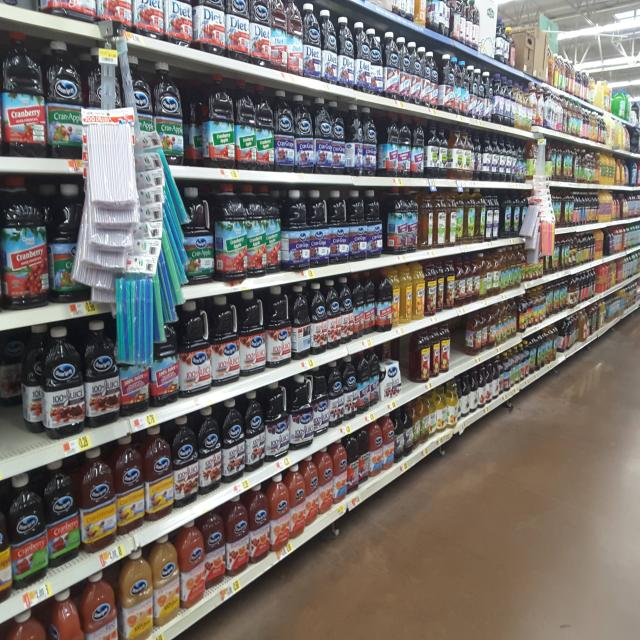empty: (1, 339, 49, 446), (392, 337, 416, 390), (453, 321, 473, 366)
